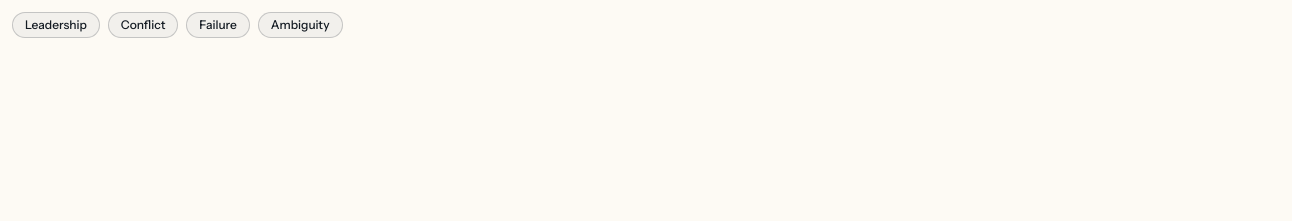
Test case: CompetencyChips › clicking the same chip again collapses the panel
The width and height of the screenshot is (1292, 221).
What coordinates should you click on to do the following:
click the button with test id "chip-Conflict"
I would click on:
 (143, 25)
Its box is 108,12 -> 178,38.
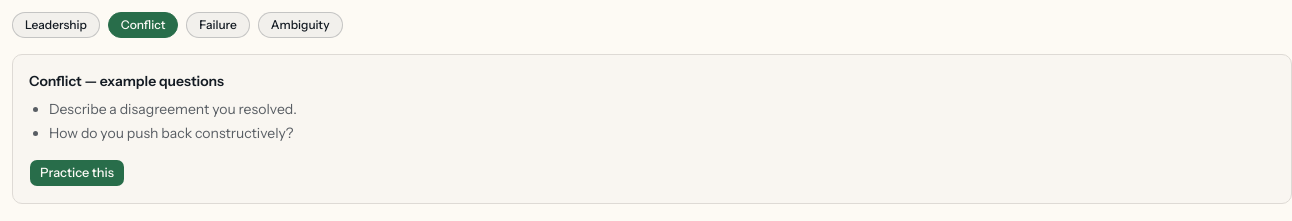
Expected: the element with test id "panel-Conflict" is shown
What coordinates should you click on to do the following:
click the button with test id "chip-Conflict"
I would click on:
 (143, 25)
Its box is 108,12 -> 178,38.
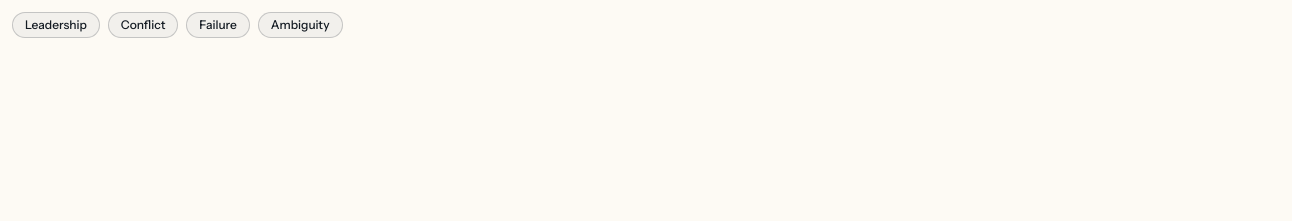
Expected: the element with test id "panel-Conflict" is gone
